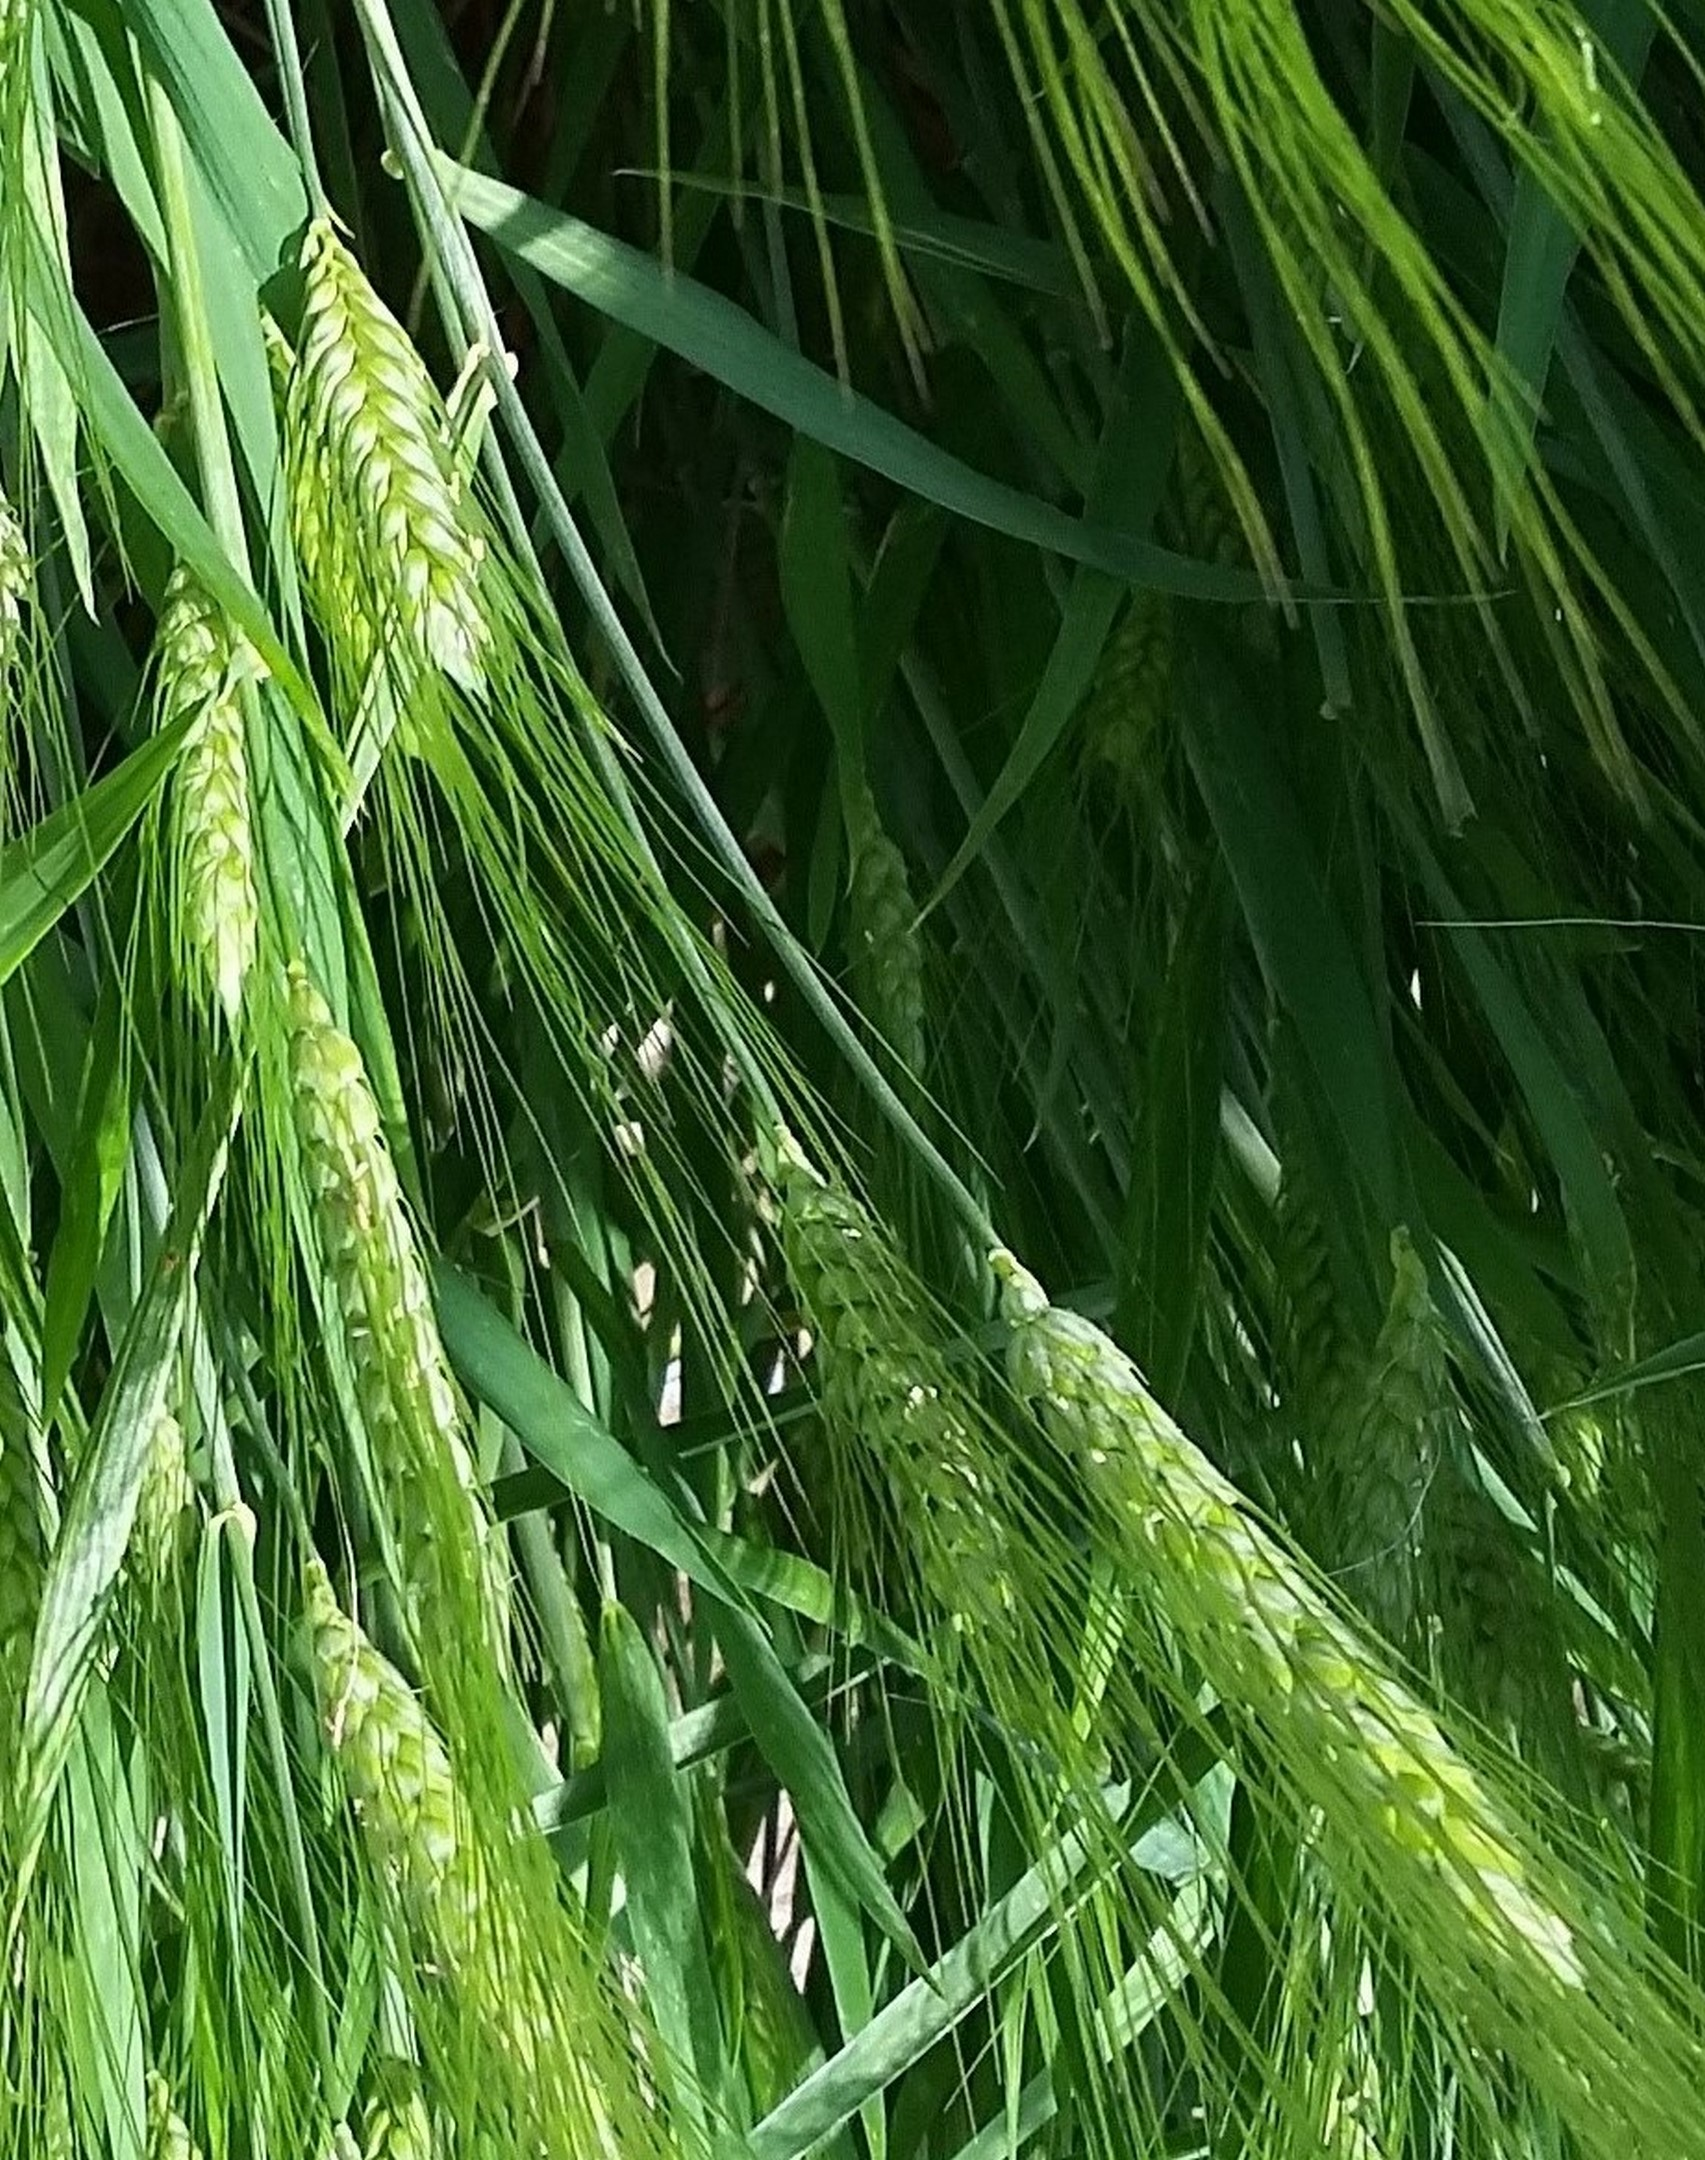Healthy Wheat: (968, 1236, 1705, 2069), (260, 189, 514, 710)
